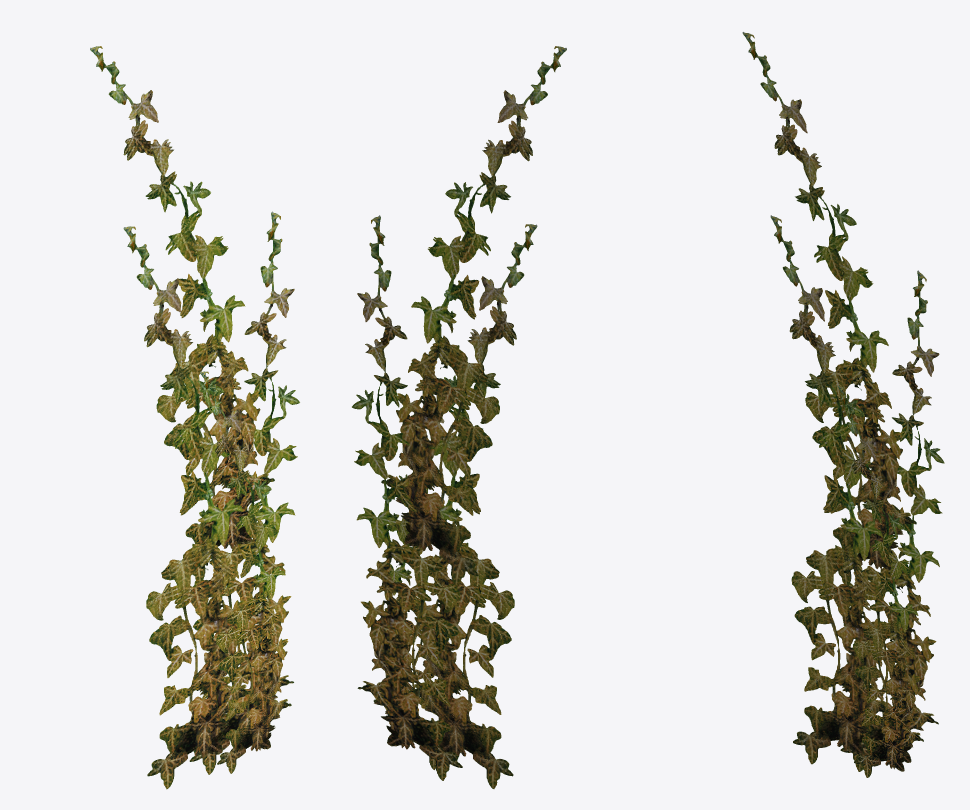
Rendered from ivy-1.fbx.
3 renders of one model, left to right at view 1: azimuth 30°, elevation 25°; view 2: azimuth 150°, elevation 25°; view 3: azimuth 330°, elevation 25°, orthographic. The views are drawn at different scales.
Parts seen in each view (by area): view 1: Mesh; view 2: Mesh; view 3: Mesh.
Boxes of the visible parts, bbox=[...] form: Mesh: bbox=[90, 46, 299, 789]; Mesh: bbox=[352, 46, 566, 788]; Mesh: bbox=[742, 32, 944, 777].
Bounding box in the file's own units: 246 × 616 × 9.5.
